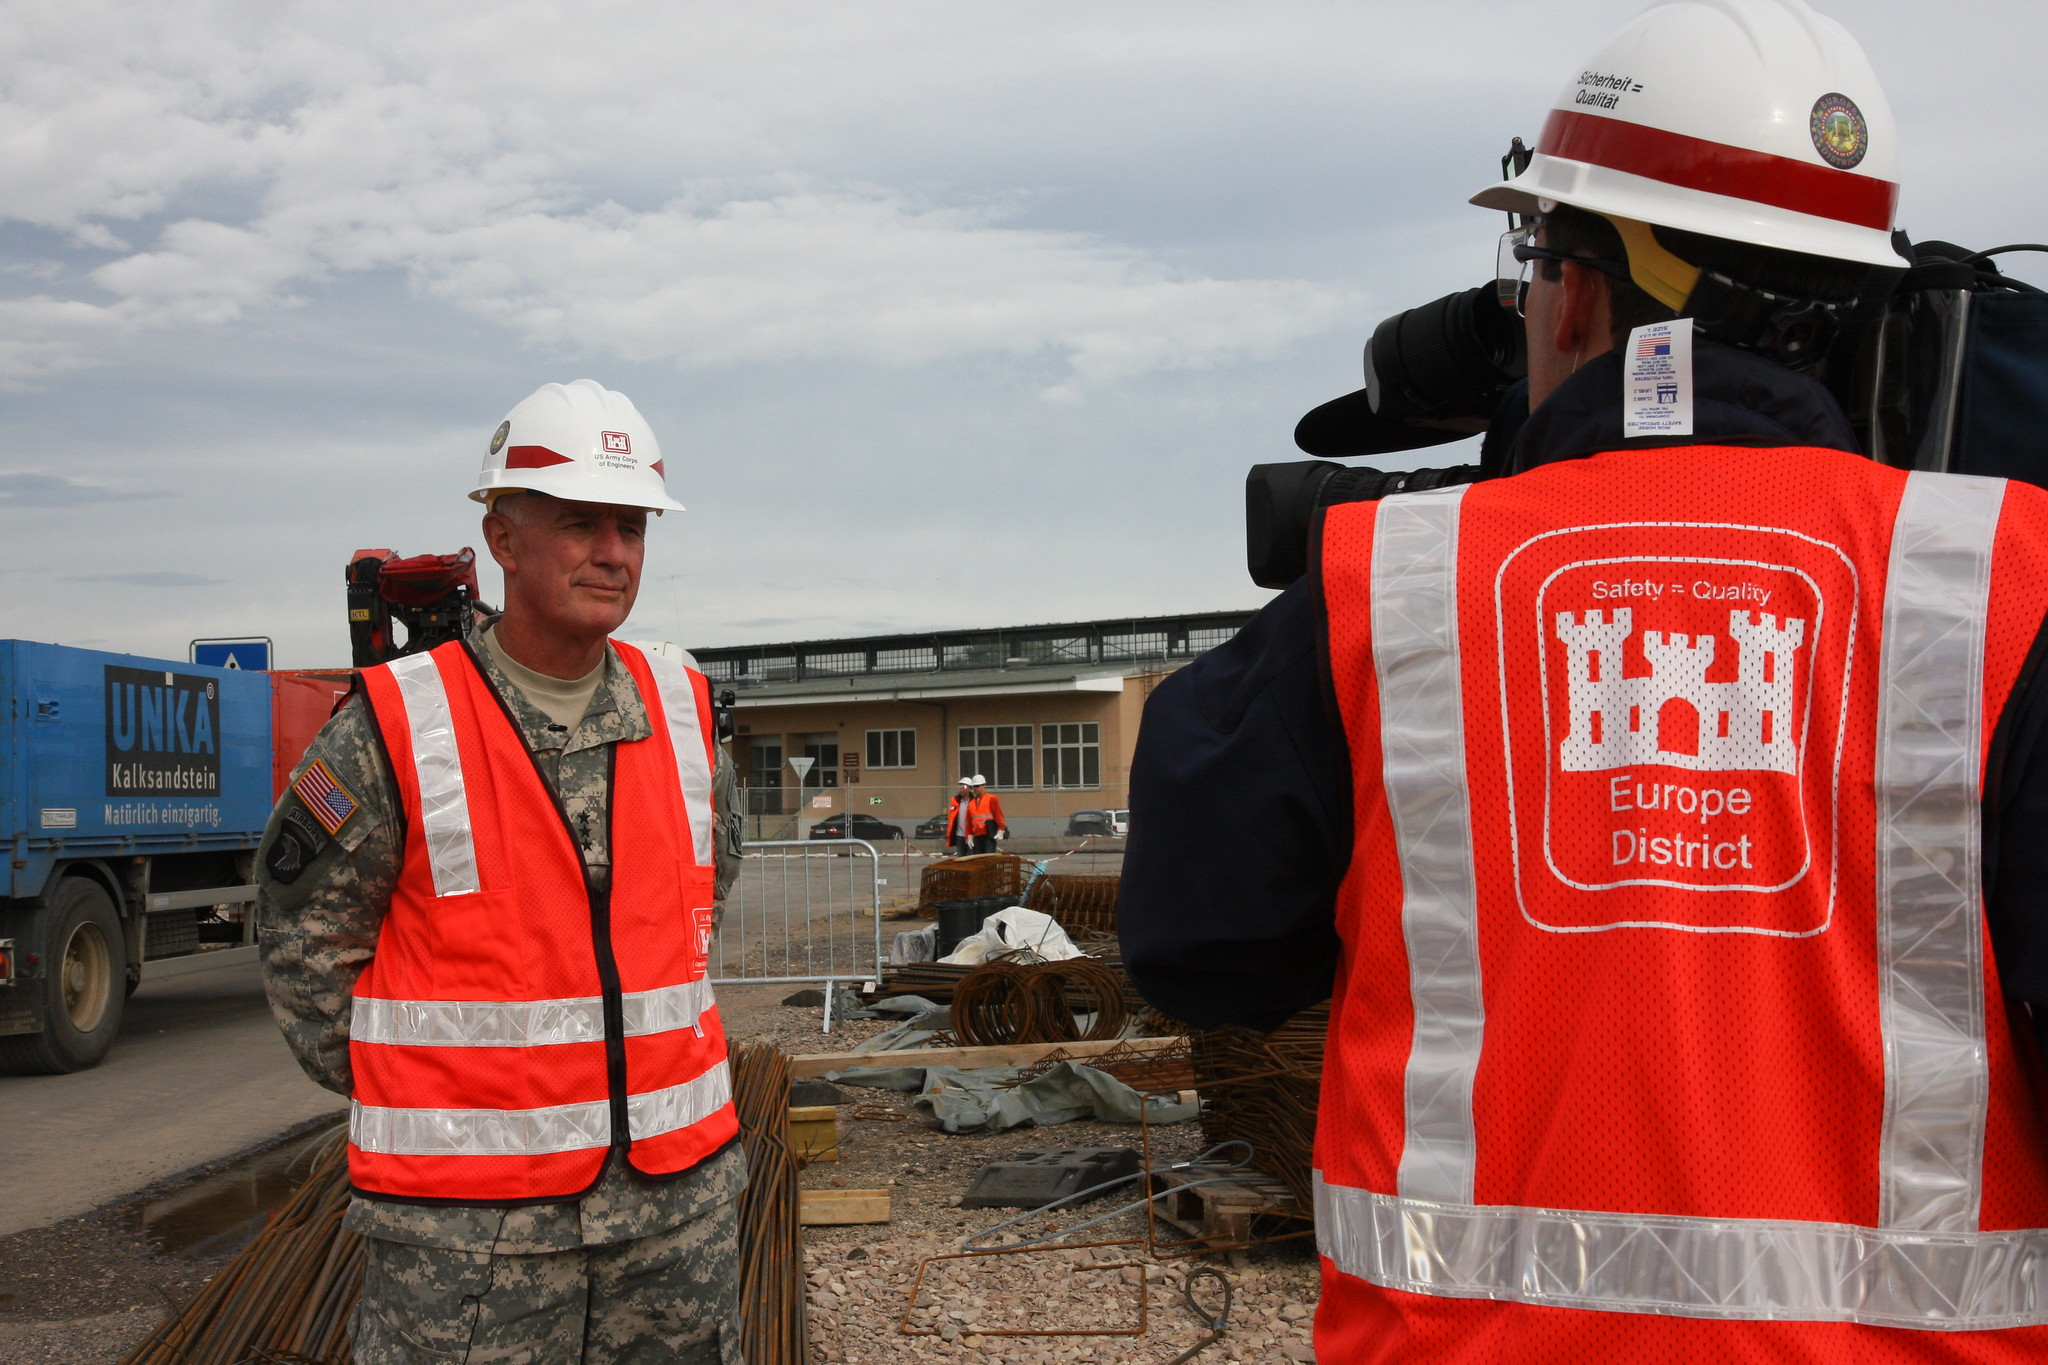Helmet: (1431, 8, 1920, 449), (448, 356, 707, 660), (955, 772, 971, 791), (970, 769, 987, 788)
Reflective vest: (1311, 446, 2048, 1365), (335, 635, 745, 1196), (965, 792, 1003, 839)
